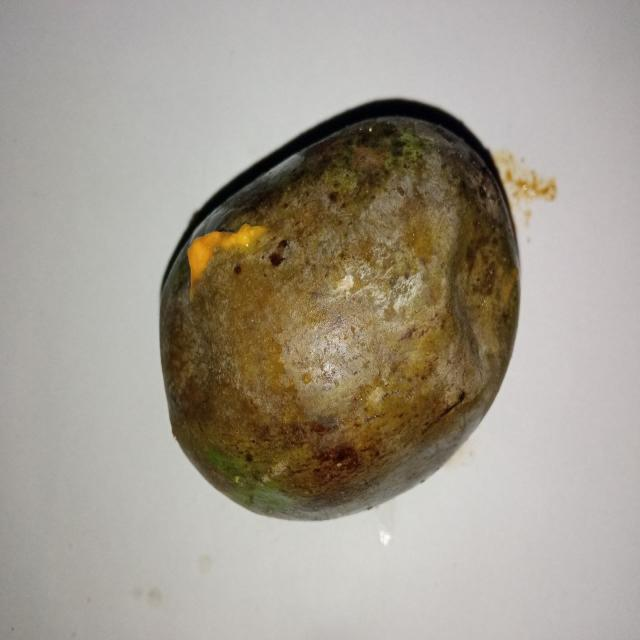rotten_mango: (158, 111, 516, 518)
